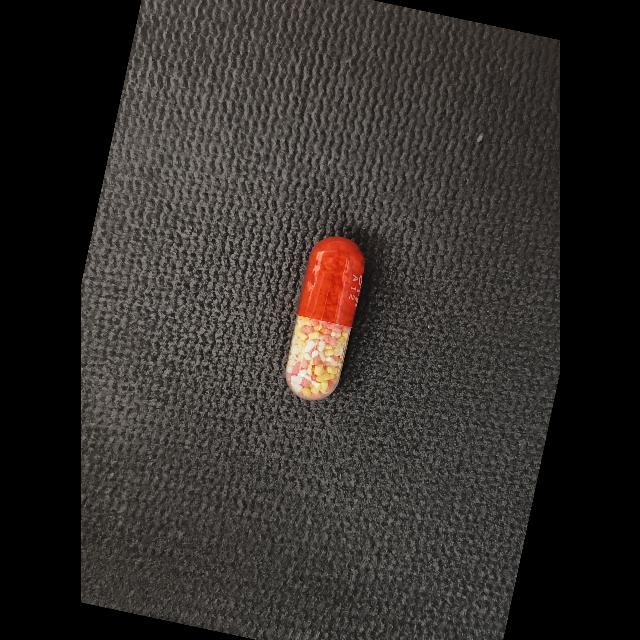Intact Capsule: (285, 237, 364, 400)
